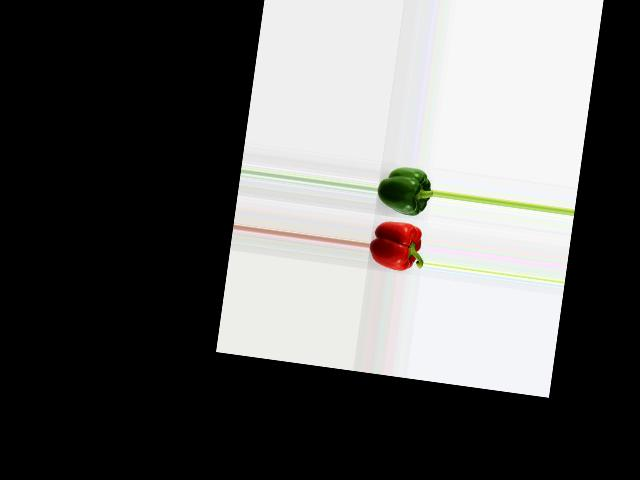bell_pepper: (376, 162, 435, 220)
